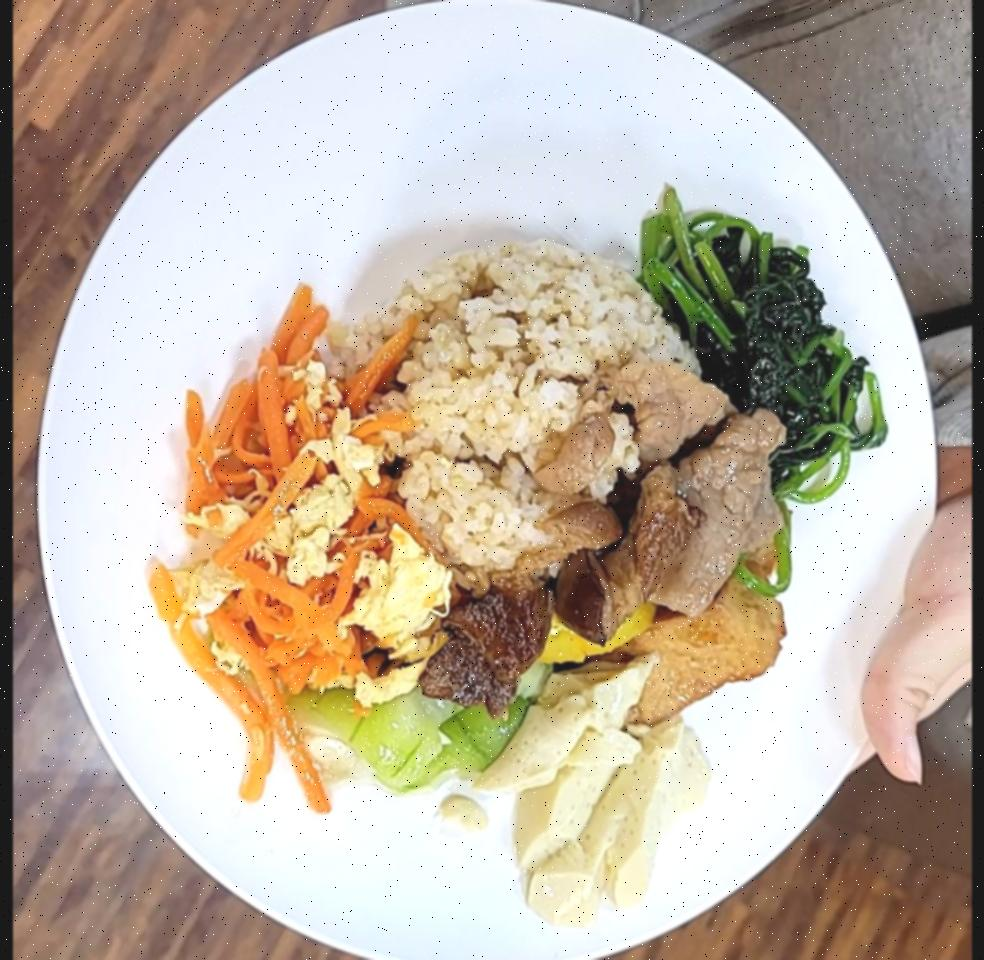big fried chicken leg: (23, 0, 938, 960)
box: (372, 248, 690, 577)
braised fish fillet: (151, 316, 449, 713), (644, 201, 882, 492), (502, 670, 706, 929), (302, 686, 530, 786)
braised pork: (432, 370, 786, 706)
